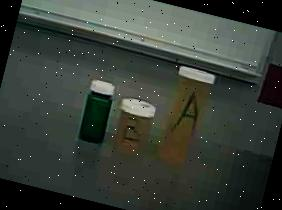Bottle A: (154, 61, 216, 172)
Bottle B: (109, 93, 162, 162)
Bottle C: (72, 76, 121, 149)
